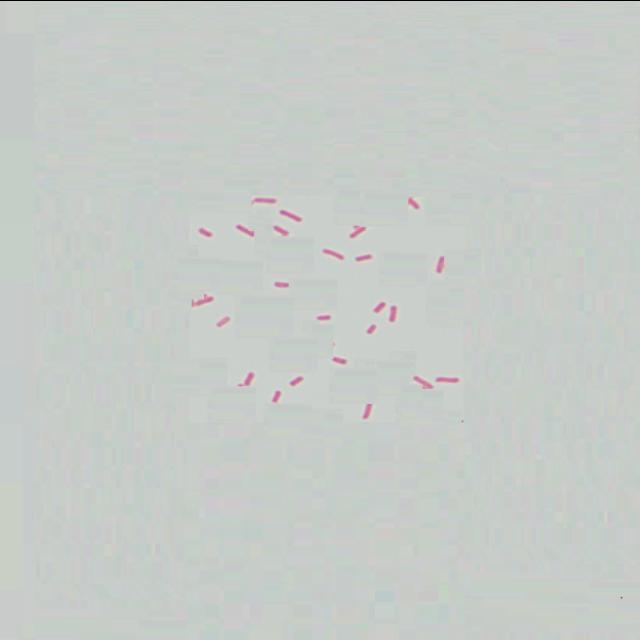E-coli: (279, 205, 306, 223), (191, 224, 221, 240), (319, 244, 346, 259), (233, 222, 258, 238), (189, 295, 217, 309), (410, 374, 434, 390), (214, 313, 234, 332), (405, 194, 425, 212), (270, 225, 293, 240), (437, 371, 459, 386), (328, 353, 351, 367), (250, 195, 282, 205), (350, 225, 370, 241), (270, 388, 285, 408), (386, 303, 401, 323), (311, 311, 335, 323), (241, 370, 257, 388), (358, 401, 374, 419), (433, 256, 448, 275), (272, 277, 295, 289), (289, 373, 307, 387), (355, 252, 379, 262), (364, 324, 380, 338), (371, 301, 387, 314)
